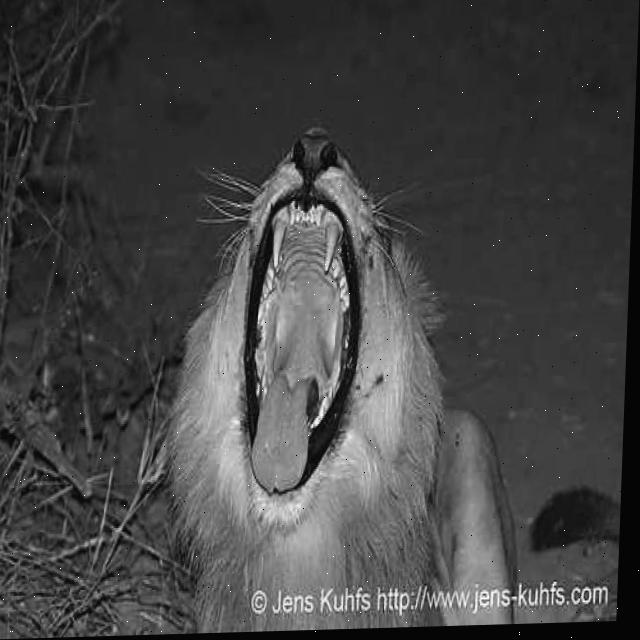Lion: (167, 37, 488, 606)
